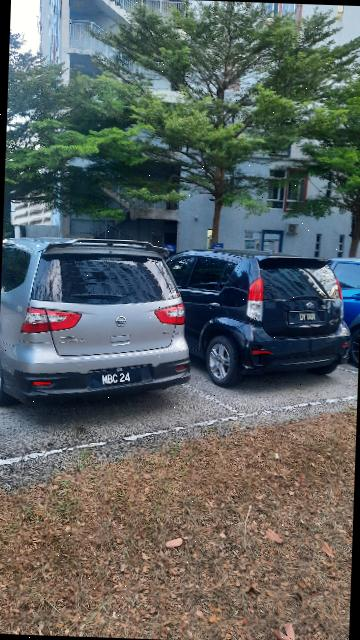License_Plate: (84, 365, 157, 394), (285, 309, 335, 329)
car: (1, 233, 200, 419), (163, 244, 358, 388)
